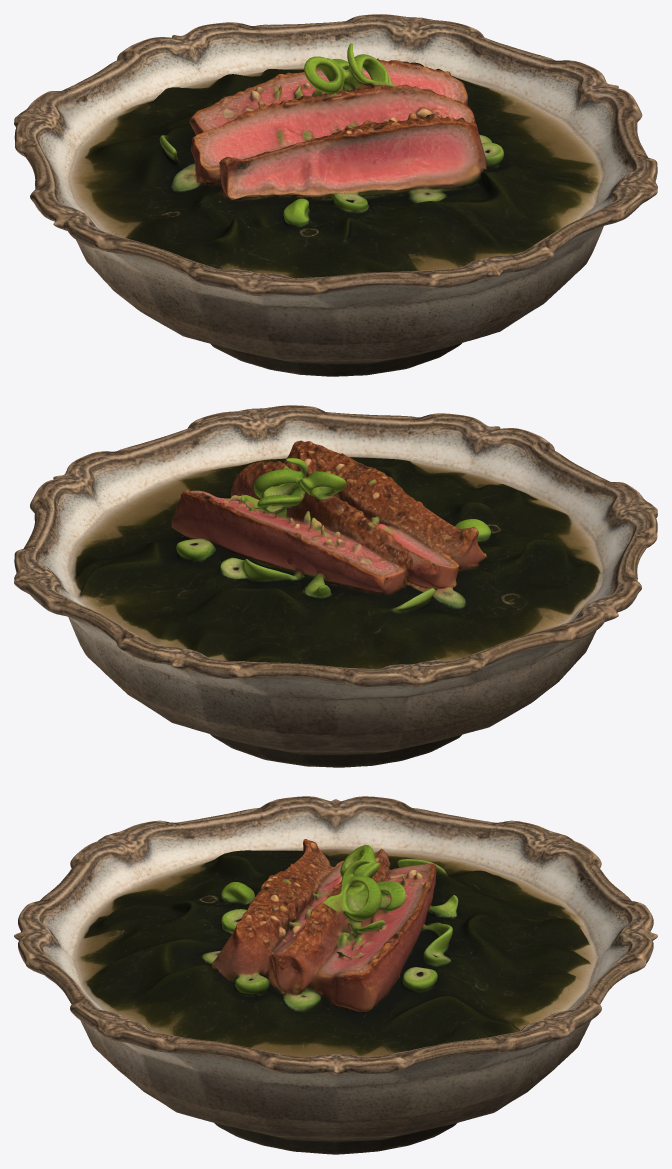
The model's file is 미역국.glb.
3 views of the same model, one above another, from view 1: azimuth 30°, elevation 25°; view 2: azimuth 150°, elevation 25°; view 3: azimuth 270°, elevation 25° (orthographic).
Size of the model in its own units: 1.9 by 0.8154 by 1.9.
Materials: 1 (1 with a texture image).
